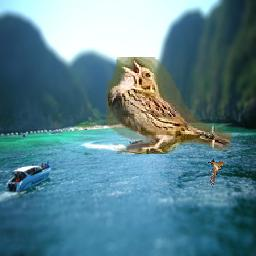Sparrow: (106, 58, 232, 155)
Swallow: (207, 156, 230, 188)
